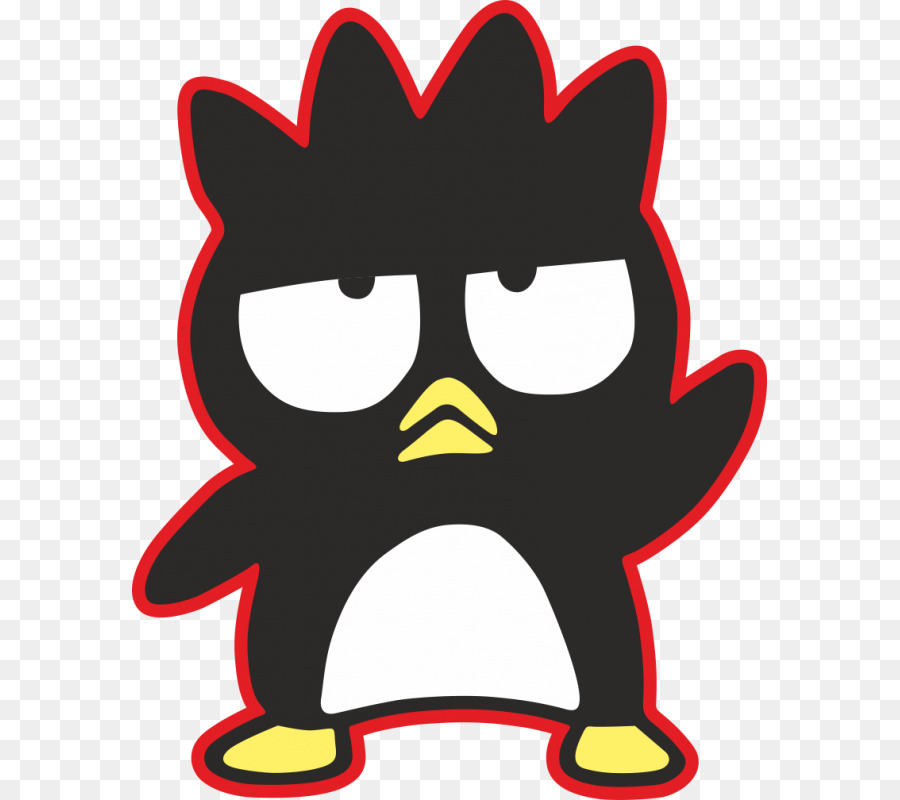batsumaru: (133, 1, 765, 797)
